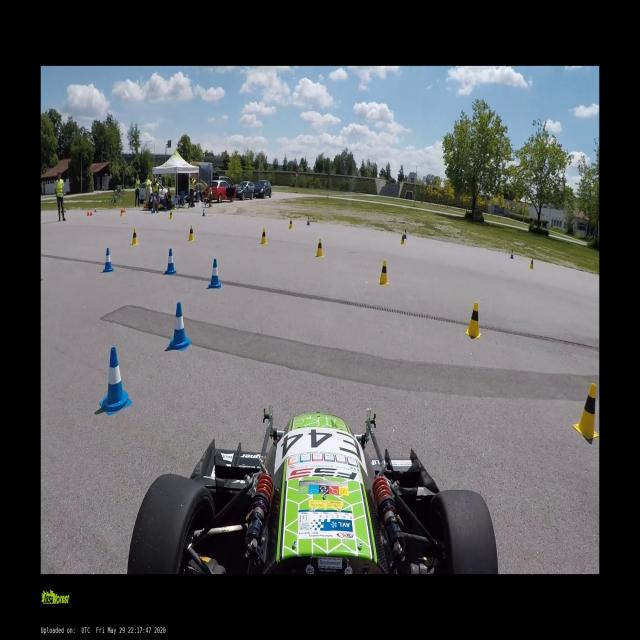blue_cone: (103, 349, 128, 409), (169, 304, 188, 348), (207, 258, 222, 290), (164, 247, 176, 275), (102, 248, 114, 272), (402, 229, 408, 240), (509, 250, 514, 260), (306, 216, 310, 226), (150, 206, 155, 214), (94, 207, 97, 212)
orange_cone: (86, 210, 92, 218), (89, 208, 93, 216)
unknown_cone: (202, 208, 205, 216)
yellow_cone: (575, 382, 599, 443), (464, 302, 482, 340), (376, 260, 391, 287), (314, 238, 324, 259), (258, 228, 268, 245), (187, 224, 195, 243), (130, 228, 138, 246), (528, 259, 534, 270), (288, 218, 293, 230), (401, 233, 405, 246), (168, 210, 173, 219), (119, 208, 124, 216), (174, 204, 178, 210)
